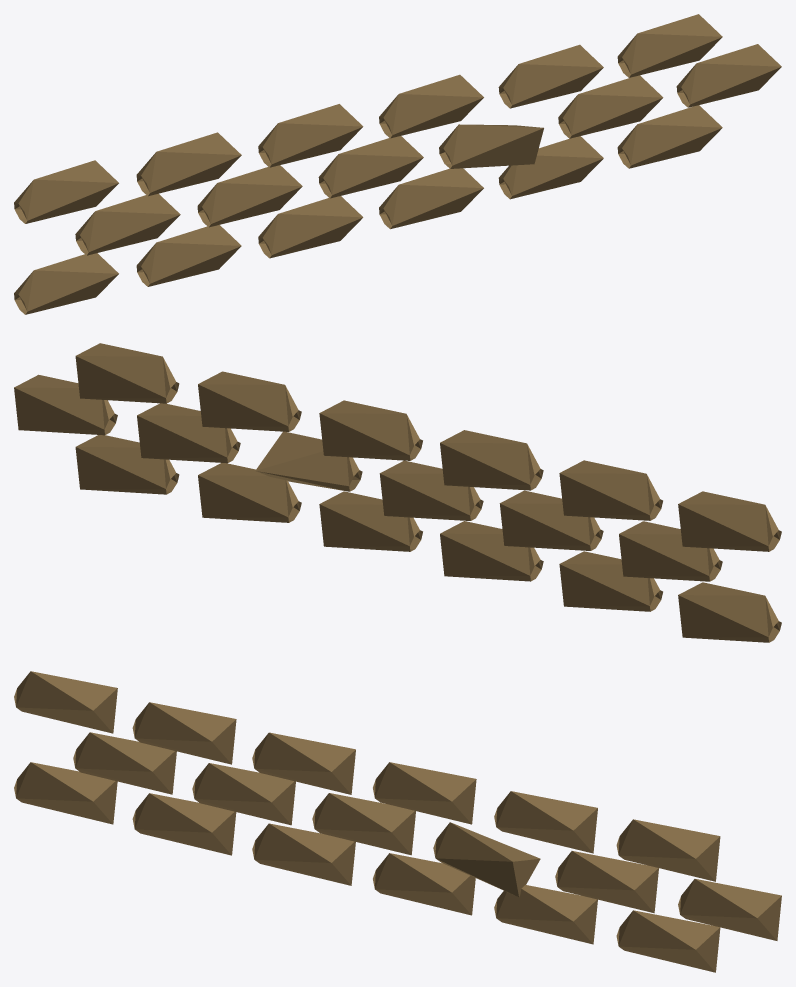
File: sandbags-lod1.glb
3 views of the same model, one above another, from view 1: azimuth 30°, elevation 25°; view 2: azimuth 150°, elevation 25°; view 3: azimuth 330°, elevation 25° (orthographic).
Bounding box in the file's own units: 4.16 × 0.7557 × 0.2786.
